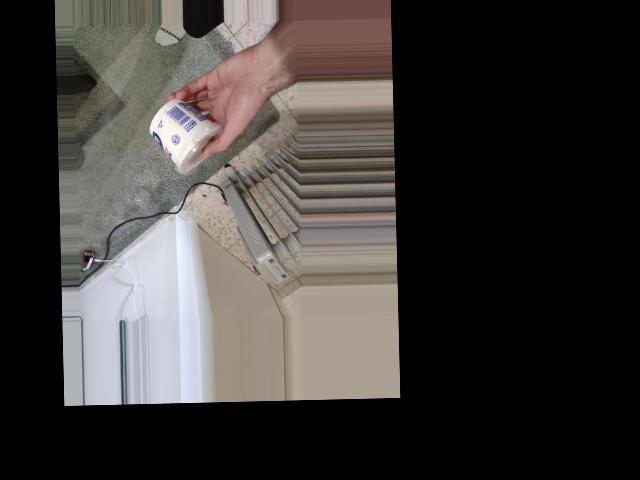cotage: (148, 93, 225, 177)
